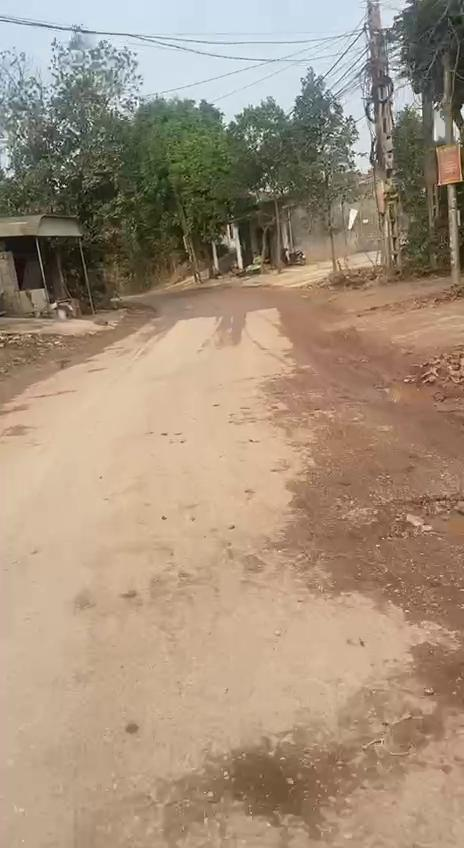pothole: (146, 734, 340, 848), (366, 478, 464, 550)
